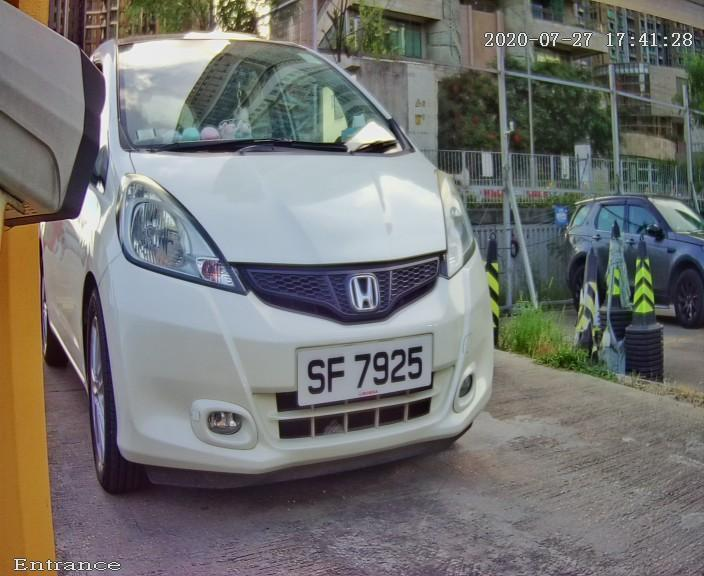privatecar: (57, 24, 519, 494)
